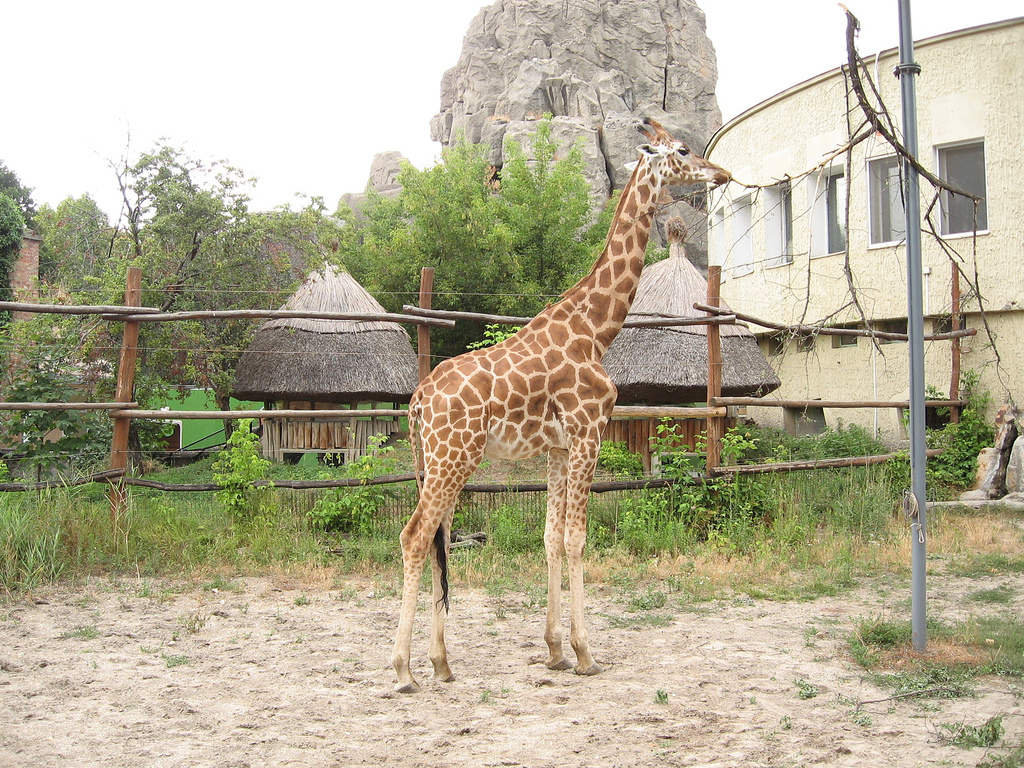giraffe: (373, 123, 738, 699)
